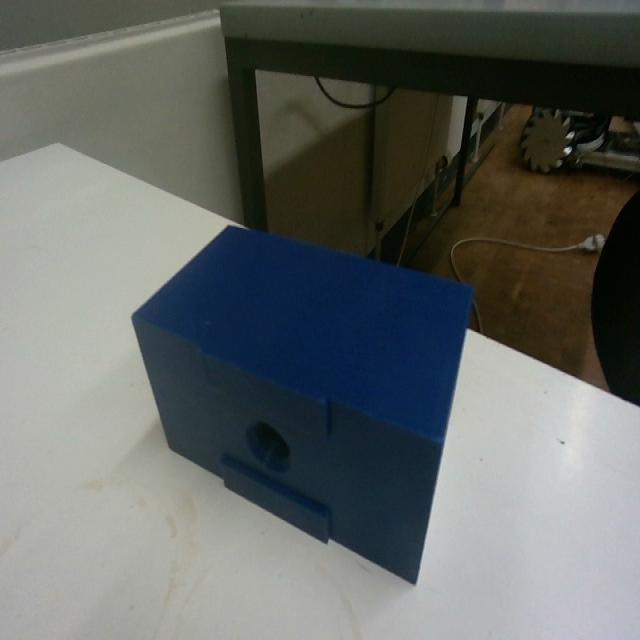Blue Cuboid: (129, 219, 476, 585)
